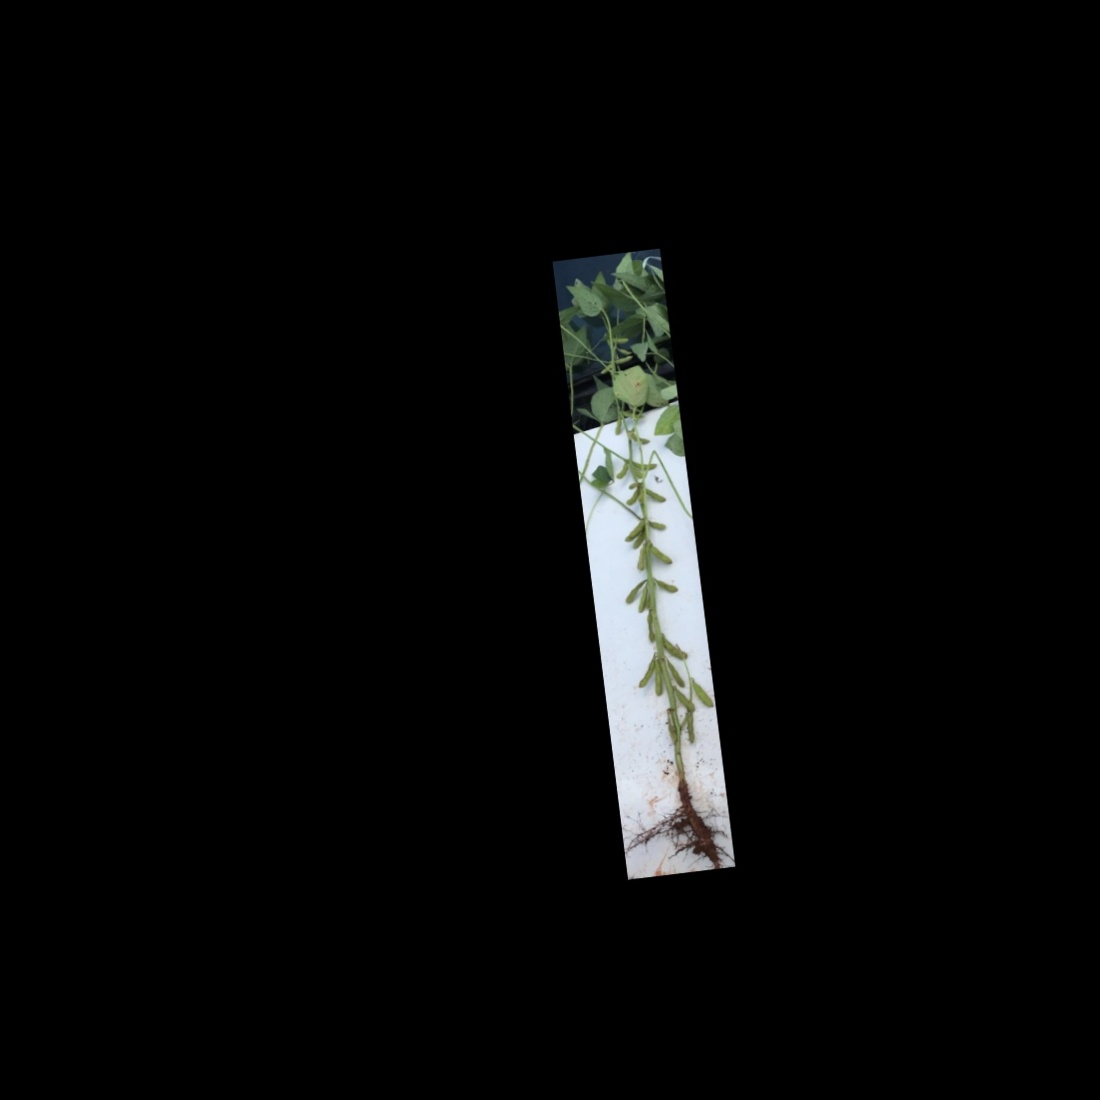pod: (685, 676, 714, 712), (658, 630, 689, 663), (618, 577, 652, 605), (634, 654, 659, 690), (618, 517, 646, 544), (649, 539, 675, 567), (651, 573, 680, 596), (682, 713, 700, 750), (642, 483, 669, 507), (672, 686, 695, 714), (667, 657, 686, 690), (650, 659, 666, 697), (633, 543, 649, 573), (631, 456, 659, 472), (642, 516, 668, 533), (622, 485, 641, 508), (635, 586, 650, 614), (614, 460, 631, 482)
soy: (554, 251, 731, 872)
